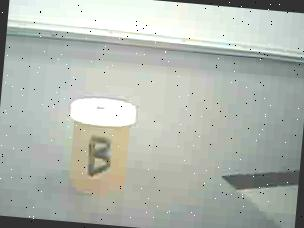Bottle B: (53, 88, 150, 207)
